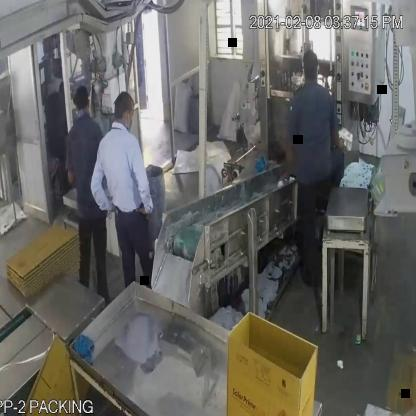no_glove: (86, 143, 110, 214), (133, 150, 155, 218), (280, 128, 301, 194)
